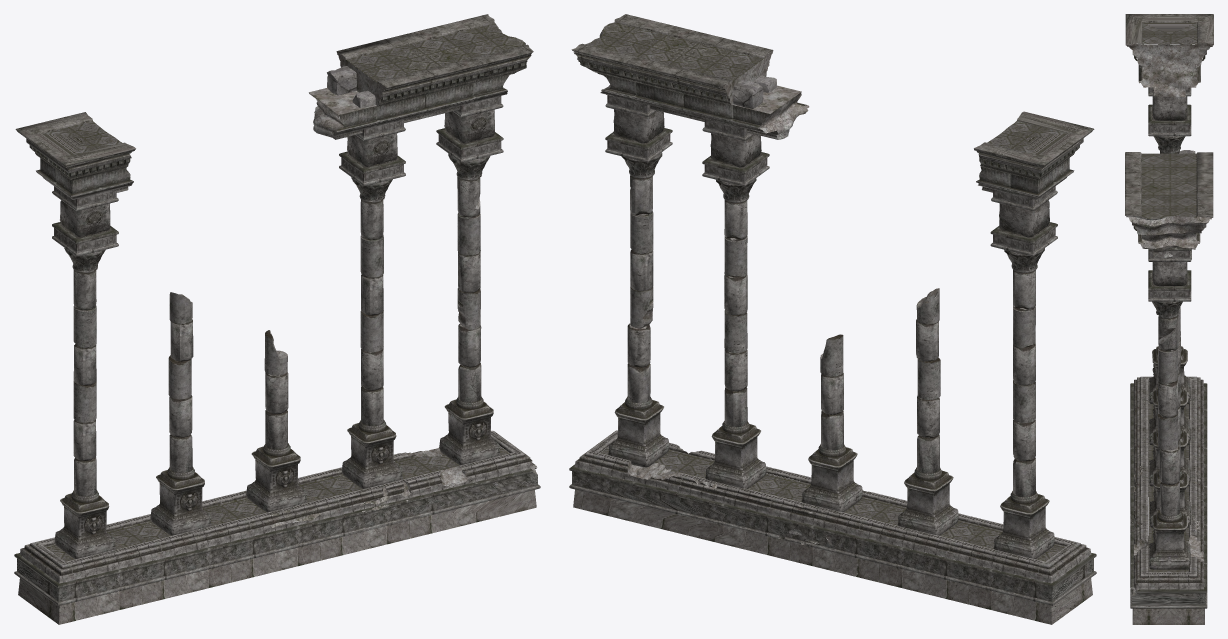
Rendered from eso_ss1_column10-transformed.glb.
3 views of the same model, side by side, from view 1: azimuth 30°, elevation 25°; view 2: azimuth 150°, elevation 25°; view 3: azimuth 270°, elevation 25° (orthographic). The views are drawn at different scales.
Parts seen in each view (by area): view 1: default; view 2: default; view 3: default.
Boxes of the visible parts, left/top/right/bottom form: default: left=14, top=14, right=540, bottom=624; default: left=569, top=14, right=1096, bottom=624; default: left=1125, top=14, right=1213, bottom=624.
Bounding box in the file's own units: 36.57 × 33.44 × 6.62.
6 materials, 6 textured.
